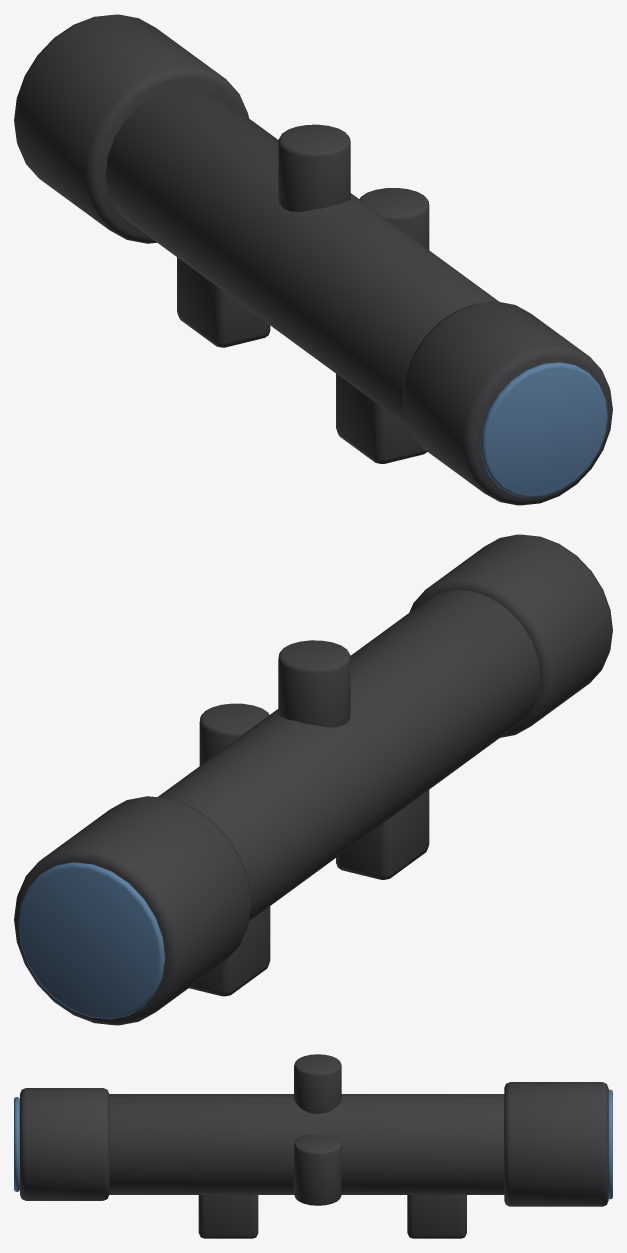
File: att_scope_rifle.glb
3 views of the same model, one above another, from view 1: azimuth 30°, elevation 25°; view 2: azimuth 150°, elevation 25°; view 3: azimuth 270°, elevation 25° (orthographic). The views are drawn at different scales.
Parts seen in each view (by area): view 1: att_scope_rifle; view 2: att_scope_rifle; view 3: att_scope_rifle.
Part boxes in pixels (x1=…): att_scope_rifle: x1=14, y1=14, x2=612, y2=505; att_scope_rifle: x1=14, y1=534, x2=612, y2=1025; att_scope_rifle: x1=14, y1=1054, x2=612, y2=1238.
Size of the model in its own units: 0.049 by 0.0625 by 0.201.
